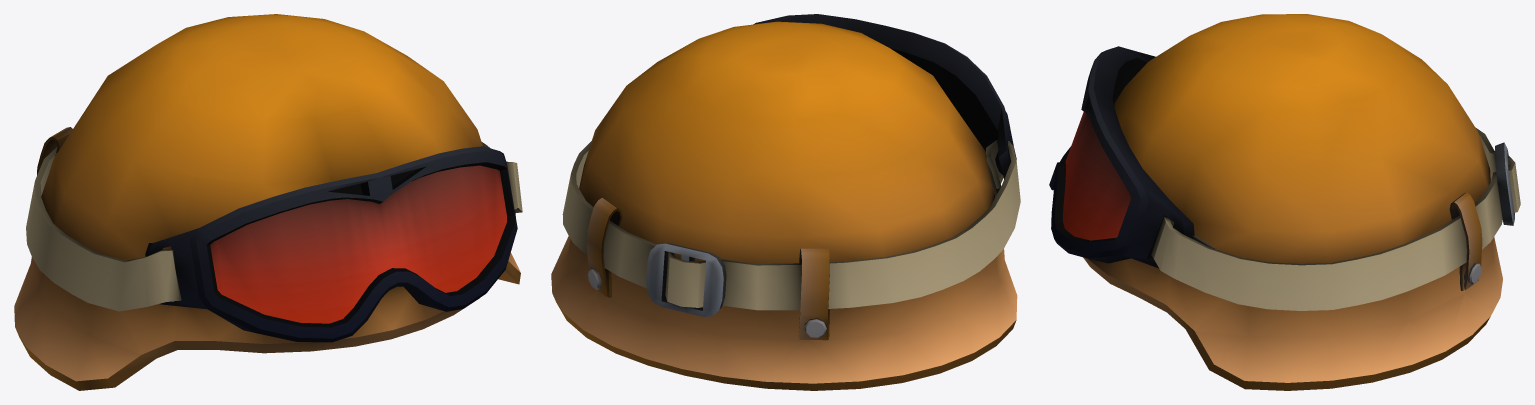
The model's file is Cap_Tank_Helmet.gltf.
3 views of the same model, side by side, from view 1: azimuth 30°, elevation 25°; view 2: azimuth 150°, elevation 25°; view 3: azimuth 270°, elevation 25° (orthographic). The views are drawn at different scales.
Parts seen in each view (by area): view 1: Cap_Tank_Helmet; view 2: Cap_Tank_Helmet; view 3: Cap_Tank_Helmet.
Boxes of the visible parts, <box> form: Cap_Tank_Helmet: <box>14,14,522,390</box>; Cap_Tank_Helmet: <box>551,14,1020,390</box>; Cap_Tank_Helmet: <box>1049,14,1520,390</box>.
Bounding box in the file's own units: 1.07 × 0.6067 × 1.05.
Materials: 2 (2 with a texture image).
